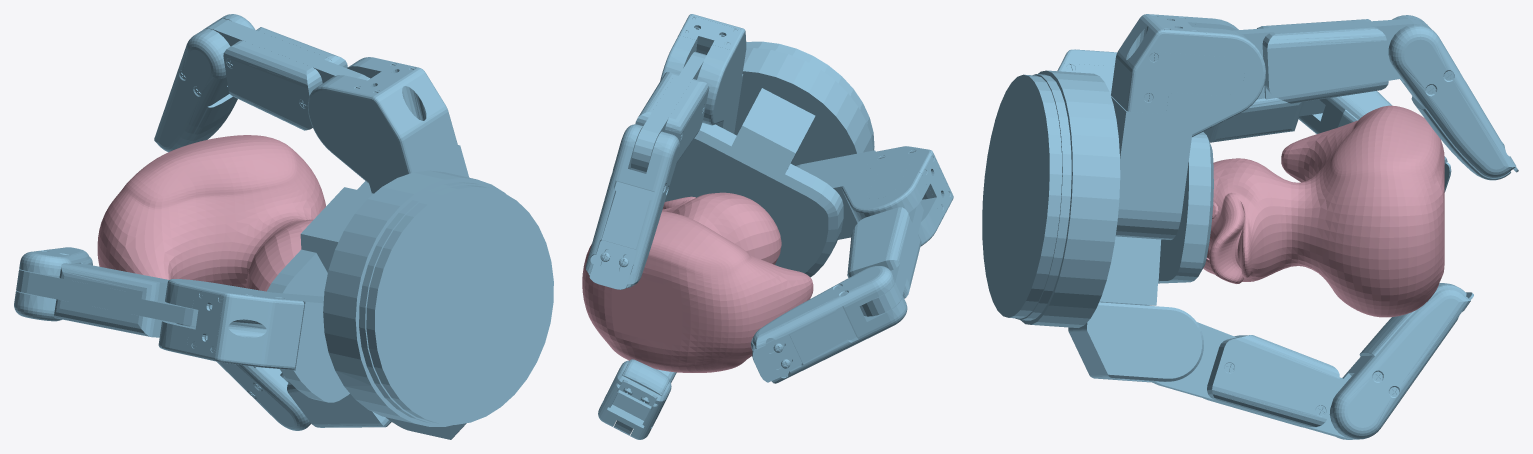
3 renders of one model, left to right at view 1: azimuth 30°, elevation 25°; view 2: azimuth 150°, elevation 25°; view 3: azimuth 270°, elevation 25°, orthographic. The views are drawn at different scales.
Visible parts, largest first — view 1: world; view 2: world; view 3: world.
Part boxes in pixels (x1=…): world: x1=14, y1=14, x2=553, y2=439; world: x1=582, y1=14, x2=953, y2=439; world: x1=982, y1=14, x2=1518, y2=439.
Size of the model in its own units: 0.1633 by 0.1636 by 0.1871.
